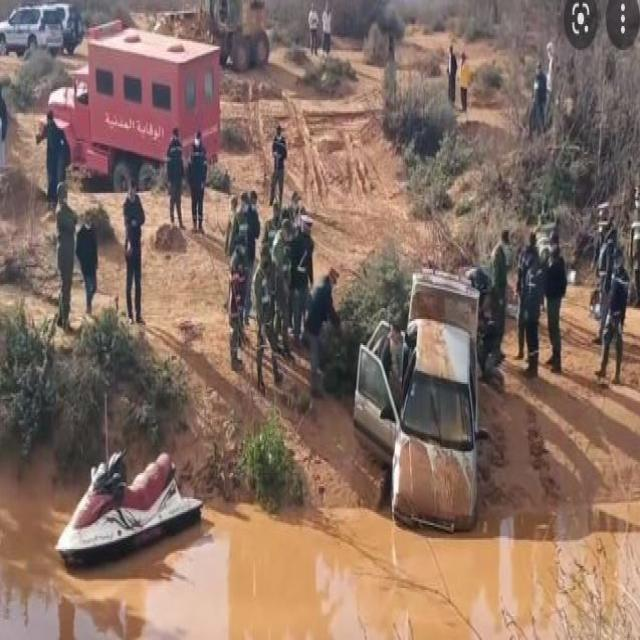pompier: (47, 16, 218, 216)
